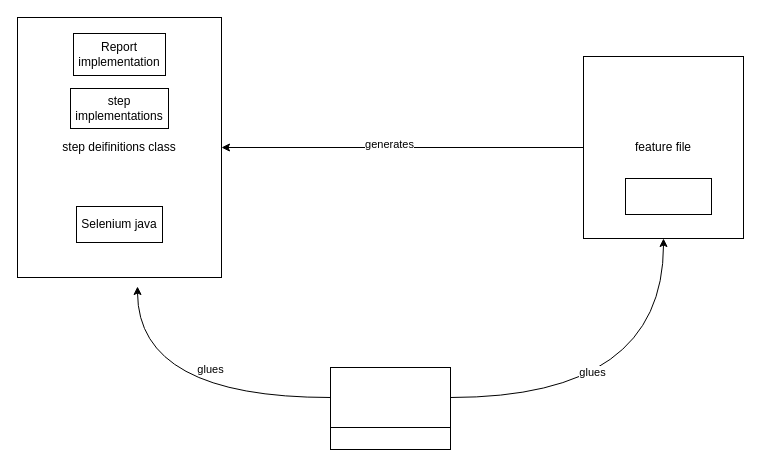
Image size: 761x467. Some labels were removed from this diagram. The centre of each missing label's shape, as x and y in pixels:
cucumber gherkin: (668,196)
JUnit Test: (390,438)
TestRunner class: (390,397)
